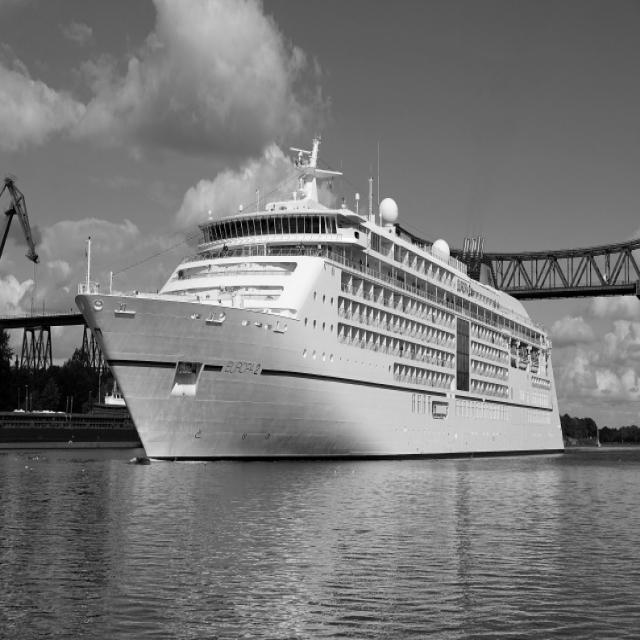cruises: (70, 137, 570, 472)
